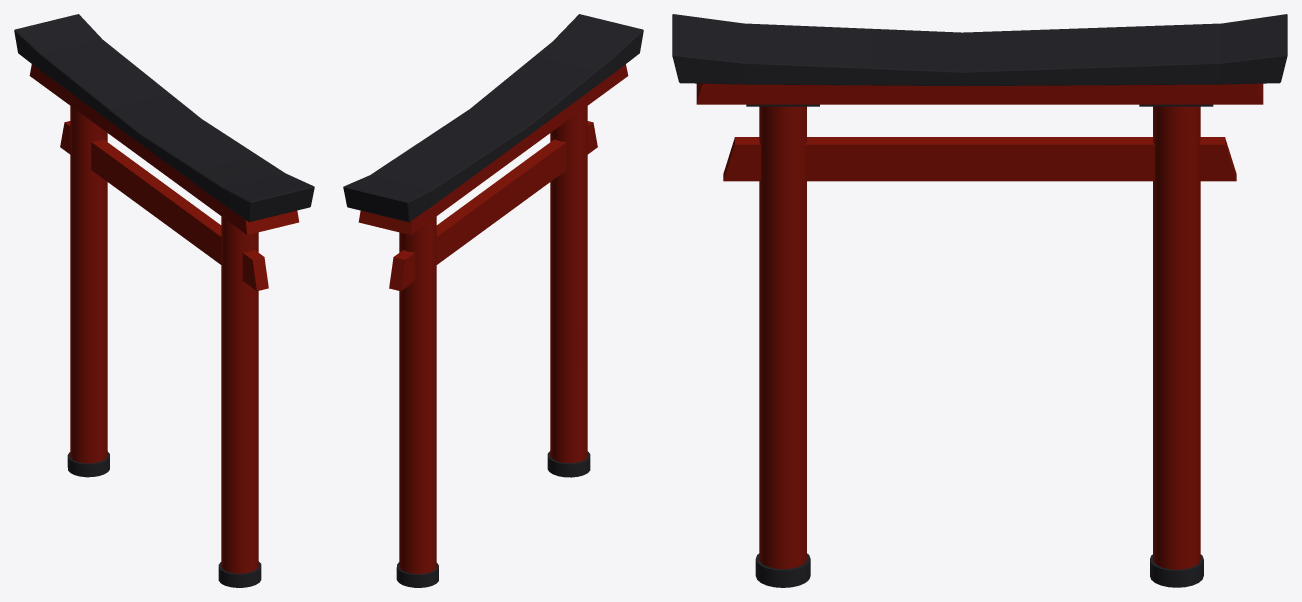
The model's file is arch1.fbx.
3 renders of one model, left to right at view 1: azimuth 30°, elevation 25°; view 2: azimuth 150°, elevation 25°; view 3: azimuth 270°, elevation 25°, orthographic. The views are drawn at different scales.
Visible parts, largest first — view 1: arch1; view 2: arch1; view 3: arch1.
Boxes of the visible parts, <box> form: arch1: <box>14,14,314,587</box>; arch1: <box>343,14,643,587</box>; arch1: <box>672,14,1287,587</box>.
Bounding box in the file's own units: 192 × 1172 × 1207.
